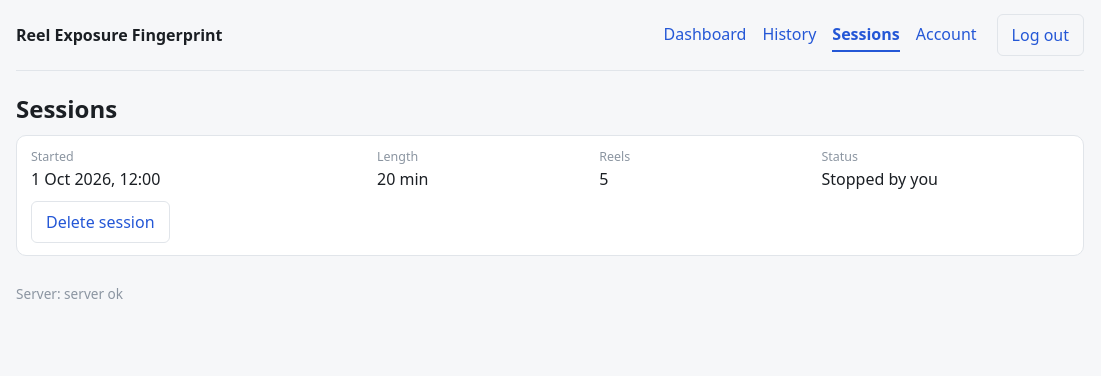
deleting data › deletes a session after a confirmation, sending the CSRF header, then shows the verified result
What coordinates should you click on to do the following:
click the button with aria-label "Delete the session of"
I would click on:
 (100, 222)
Its box is [31,201,170,243].
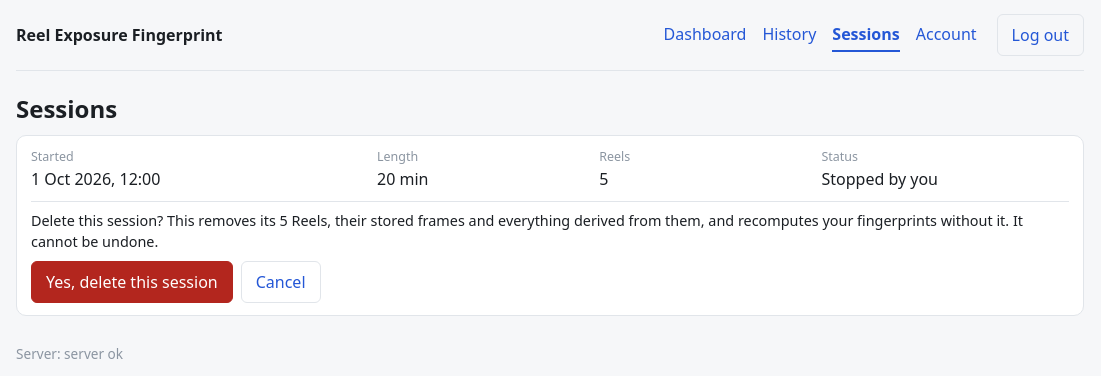
Now the element named "Confirm deleting this session" shows "its 5 Reels", box [260,211,327,230]
What coordinates should you click on to do the following:
click the button "Yes, delete this session"
I would click on:
 (132, 282)
Its box is [31,261,233,303].
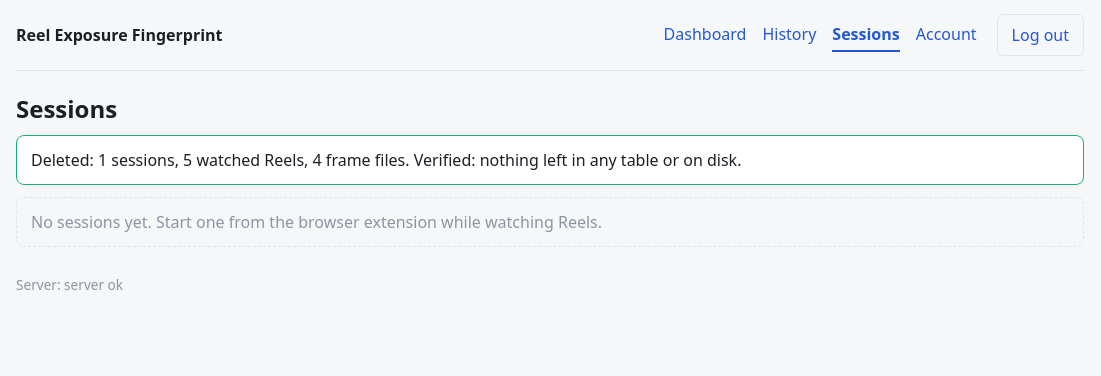
Now the text "No sessions yet" is shown, box [31,211,602,233]
Now the message shows "Verified: nothing left in any table or on disk", box [16,135,1084,185]
